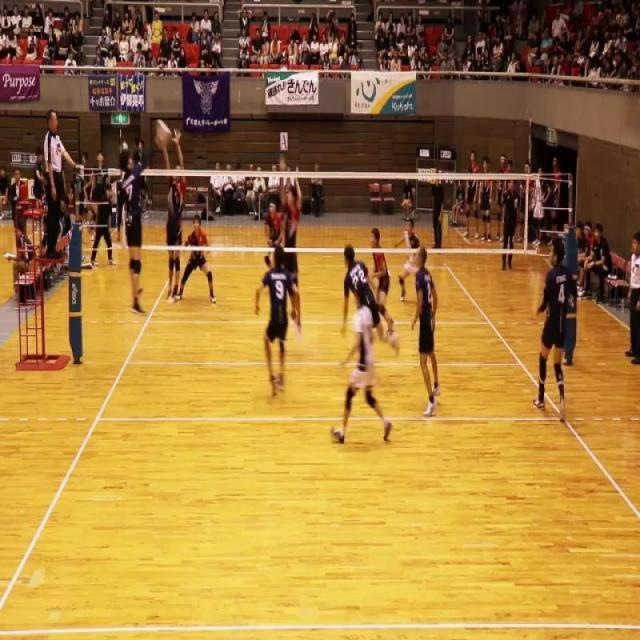volleyball: (155, 118, 172, 148)
